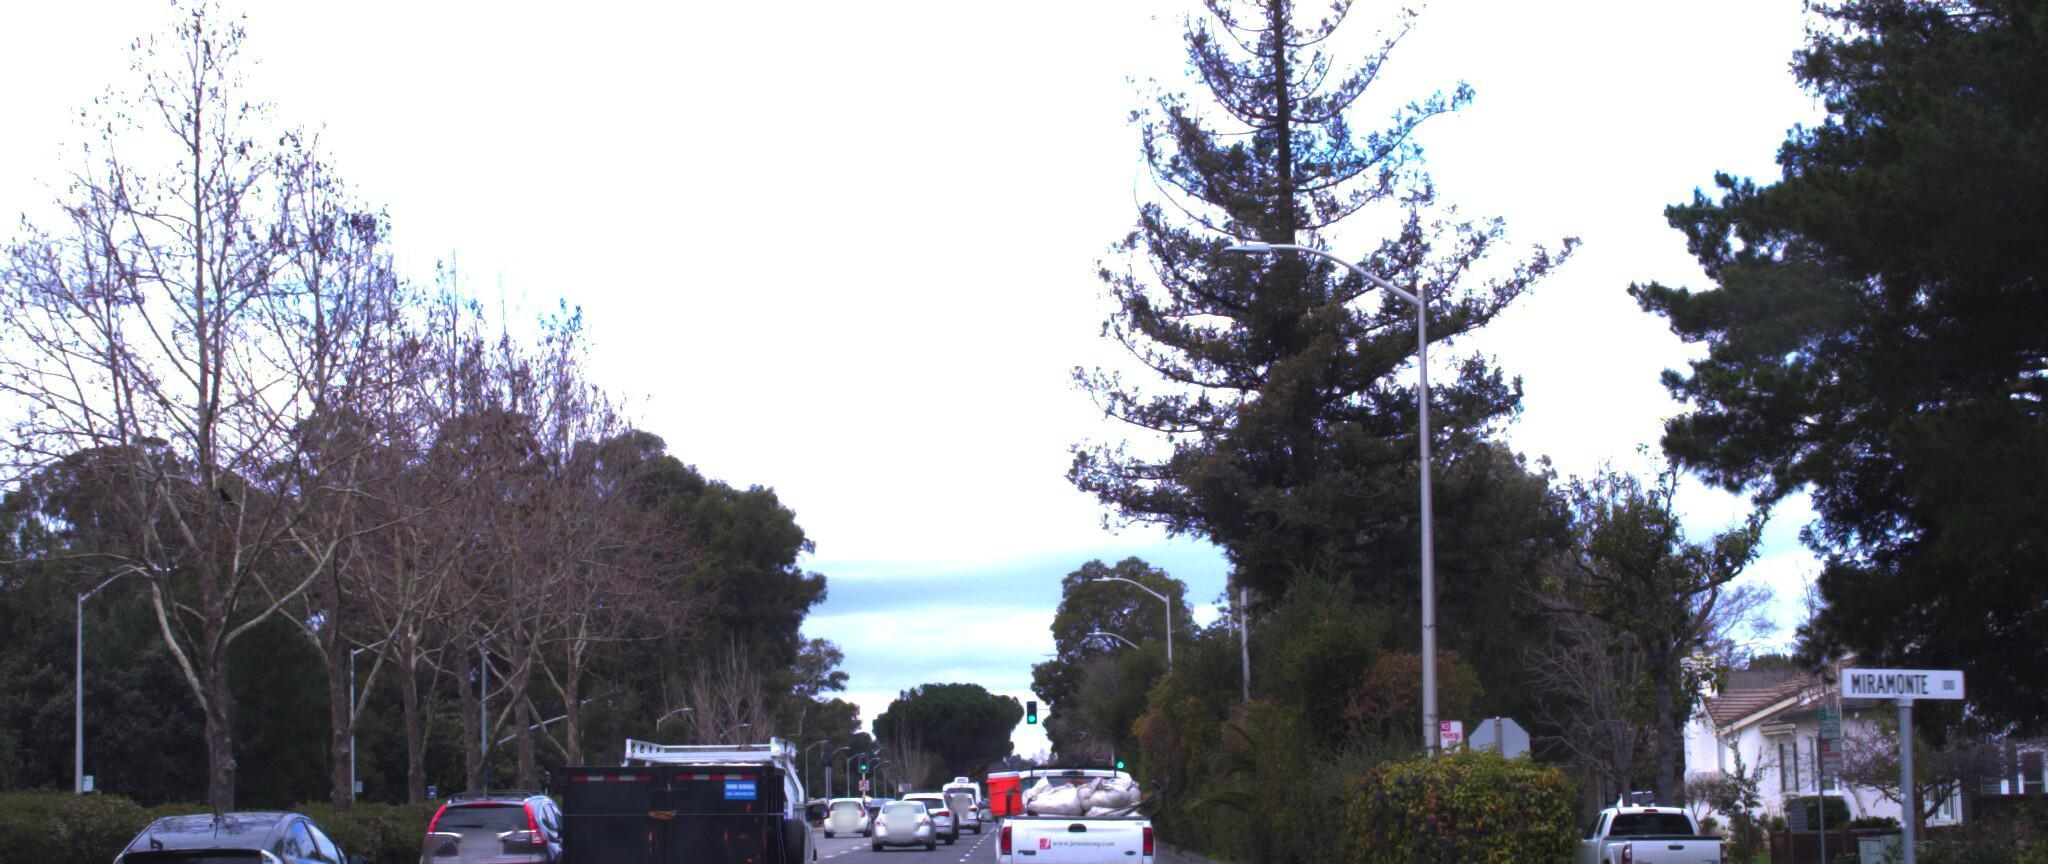car: (525, 689, 839, 864), (977, 731, 1162, 864), (90, 783, 387, 864), (409, 762, 586, 864), (1560, 780, 1735, 864)
